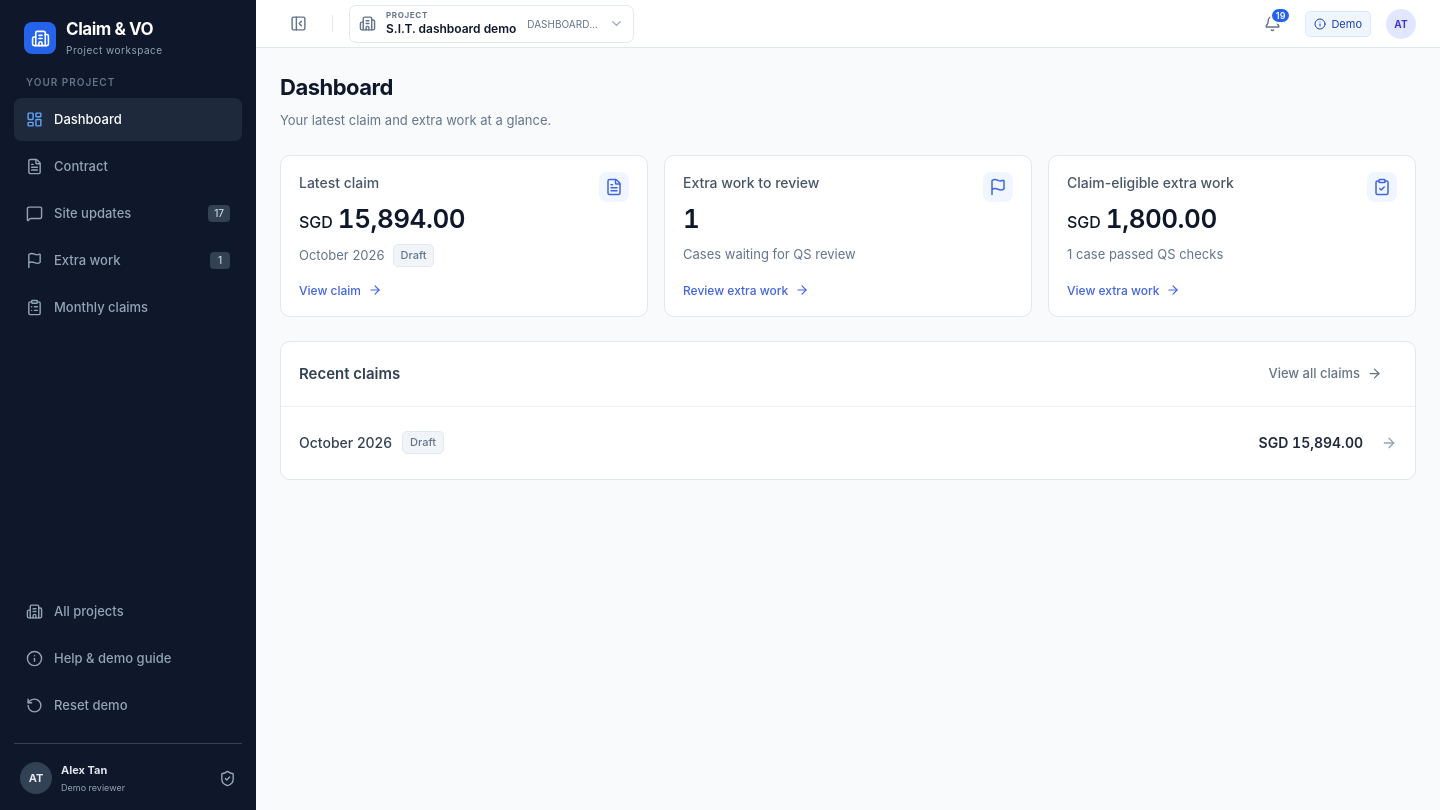
Scenario: selected-project dashboard record links › opens Dashboard by default and keeps it available from its sidebar module and direct link
Check: the element "Extra work to review" is shown, box [664,155,1032,317]
Check: the element "Claim-eligible extra work" is shown, box [1048,155,1416,317]
Step 1. Click the button "Contract" → (128, 166), box [14,145,242,188]
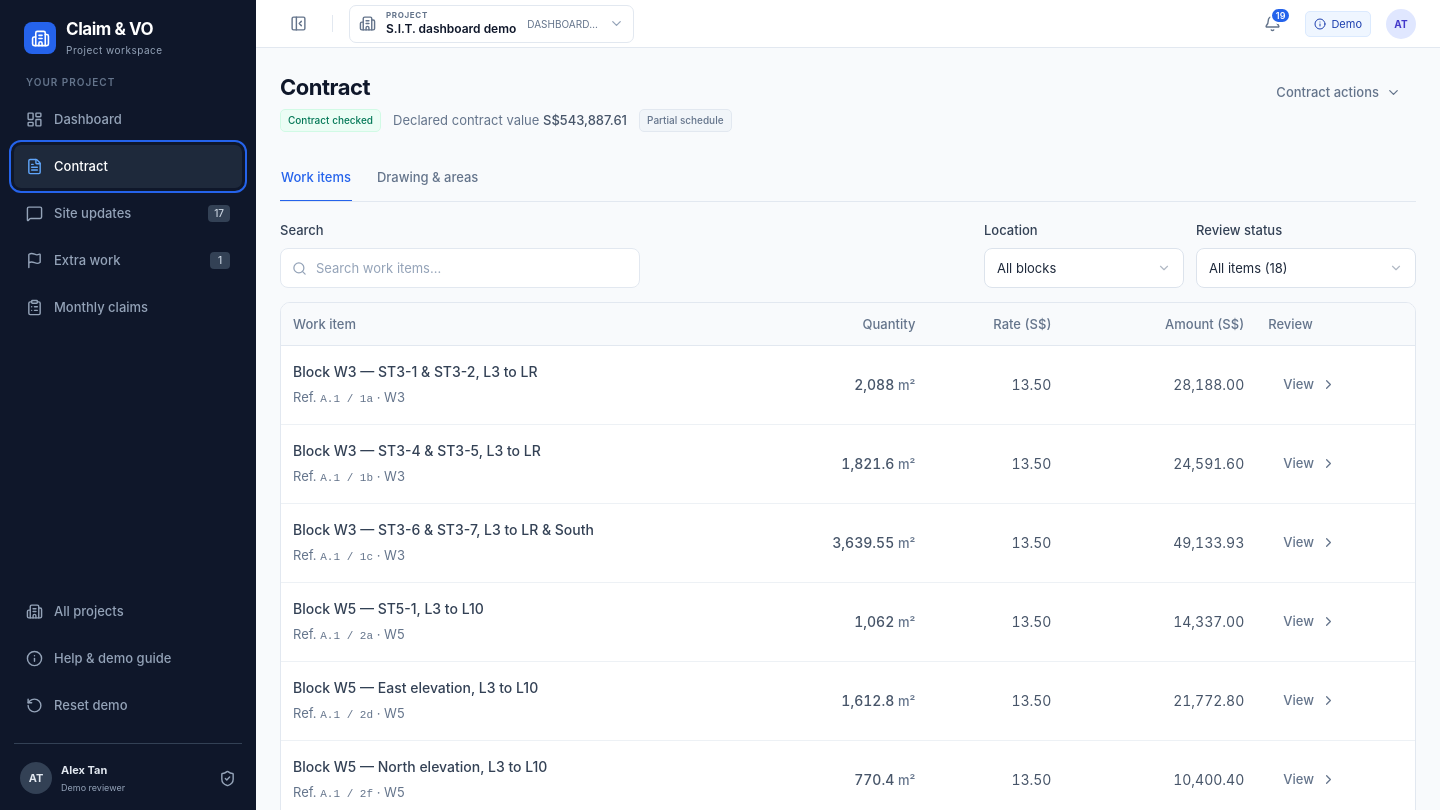
Check: the heading "Contract" is shown, box [280,74,370,100]
Step 2. Click the button "Dashboard" → (128, 120), box [14,98,242,141]
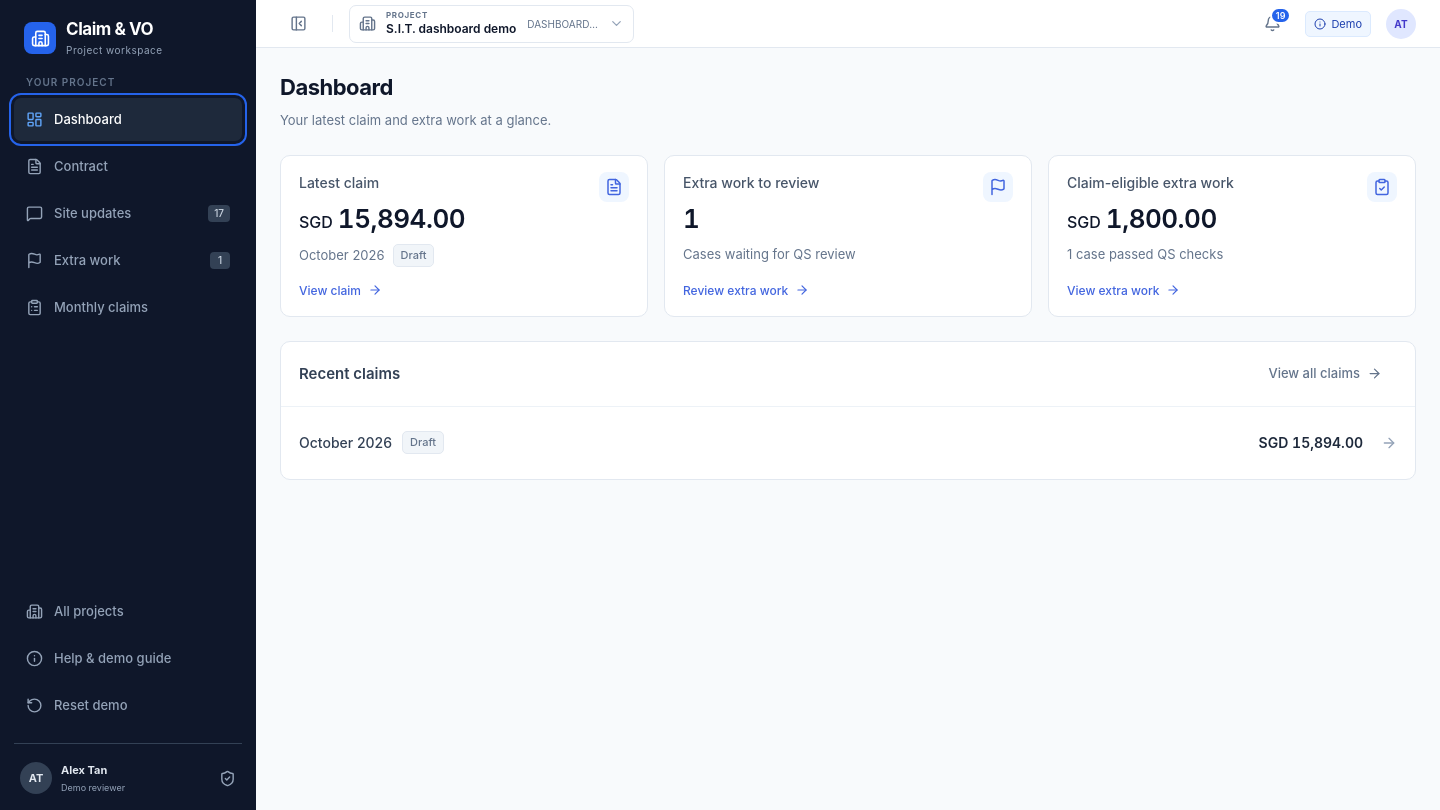
Check: the heading "Dashboard" is shown, box [280,74,393,100]
